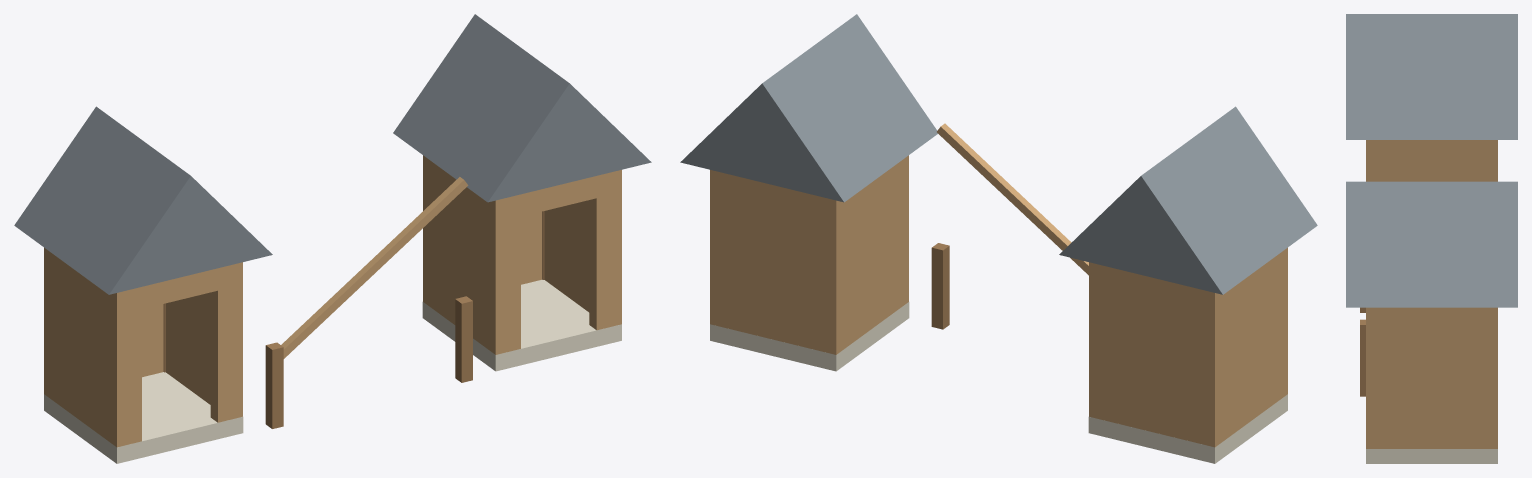
File: border-checkpoint.glb
The picture shows the model from 3 angles, left to right: view 1: azimuth 30°, elevation 25°; view 2: azimuth 150°, elevation 25°; view 3: azimuth 270°, elevation 25°; orthographic projection. The views are drawn at different scales.
Parts seen in each view (by area): view 1: border-checkpoint; view 2: border-checkpoint; view 3: border-checkpoint.
Boxes of the visible parts, x1,y1,x2,y2 form: border-checkpoint: [14, 14, 651, 463]; border-checkpoint: [680, 14, 1317, 463]; border-checkpoint: [1346, 14, 1517, 463].
Bounding box in the file's own units: 8.6 × 4.25 × 2.6.
